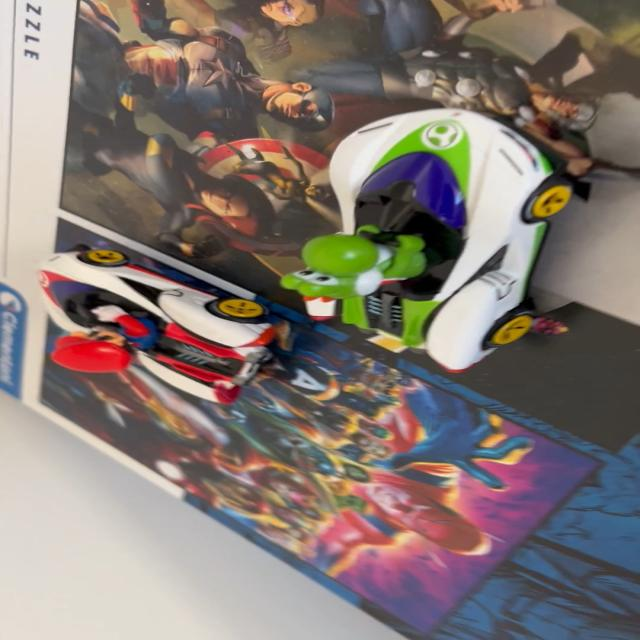mario: (19, 230, 284, 412)
yoshi: (264, 87, 613, 393)
